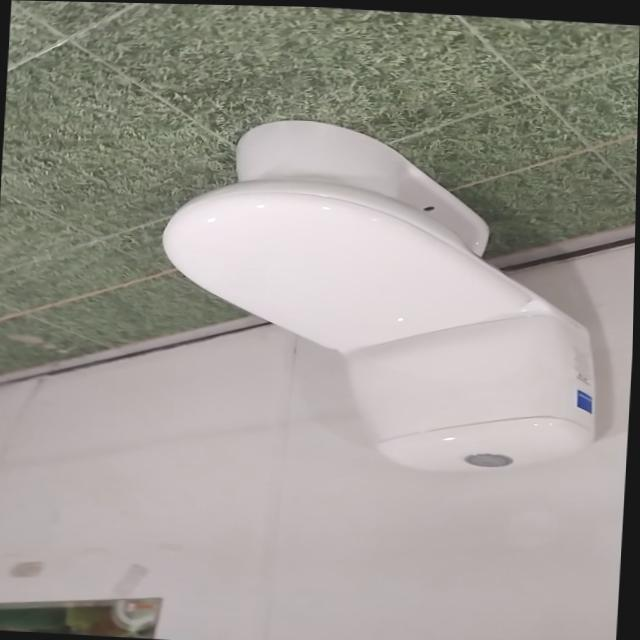toilet: (149, 111, 613, 479)
